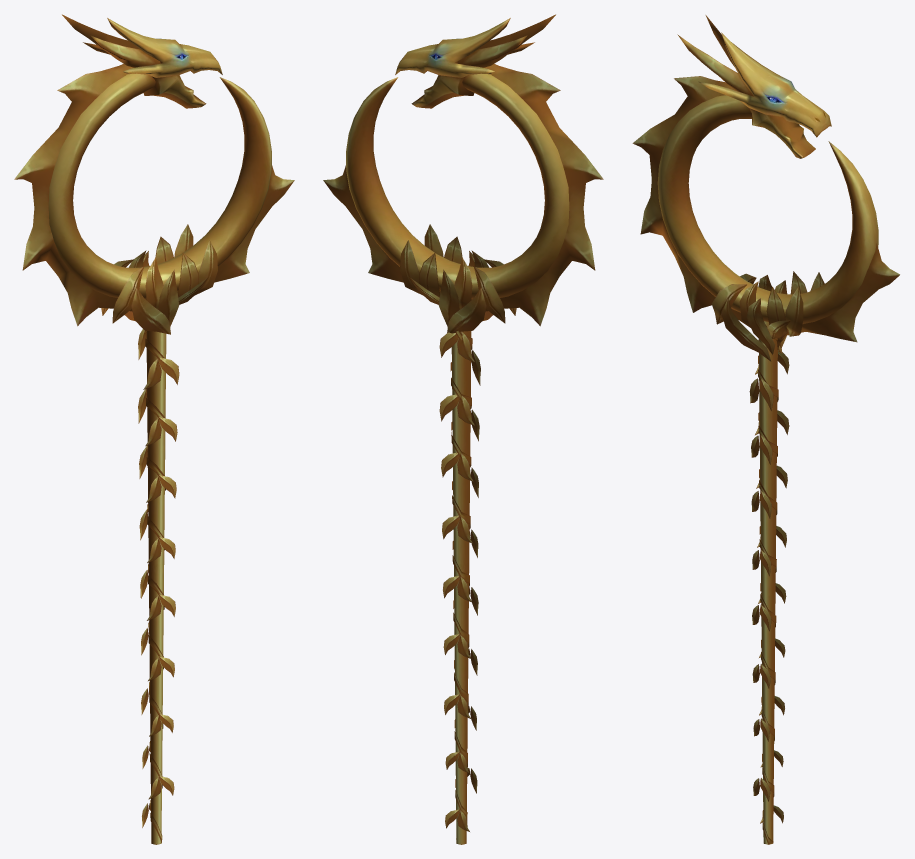
Rendered from card_staff_of_prophecy.glb.
3 renders of one model, left to right at view 1: azimuth 30°, elevation 25°; view 2: azimuth 150°, elevation 25°; view 3: azimuth 330°, elevation 25°, orthographic. The views are drawn at different scales.
Parts seen in each view (by area): view 1: card_staff_of_prophecy; view 2: card_staff_of_prophecy; view 3: card_staff_of_prophecy.
Part boxes in pixels (bbox=[...]): card_staff_of_prophecy: bbox=[14, 14, 294, 844]; card_staff_of_prophecy: bbox=[323, 14, 603, 844]; card_staff_of_prophecy: bbox=[632, 15, 899, 844].
Bounding box in the file's own units: 0.6104 × 1.74 × 0.1511.
Materials: 1 (1 with a texture image).
